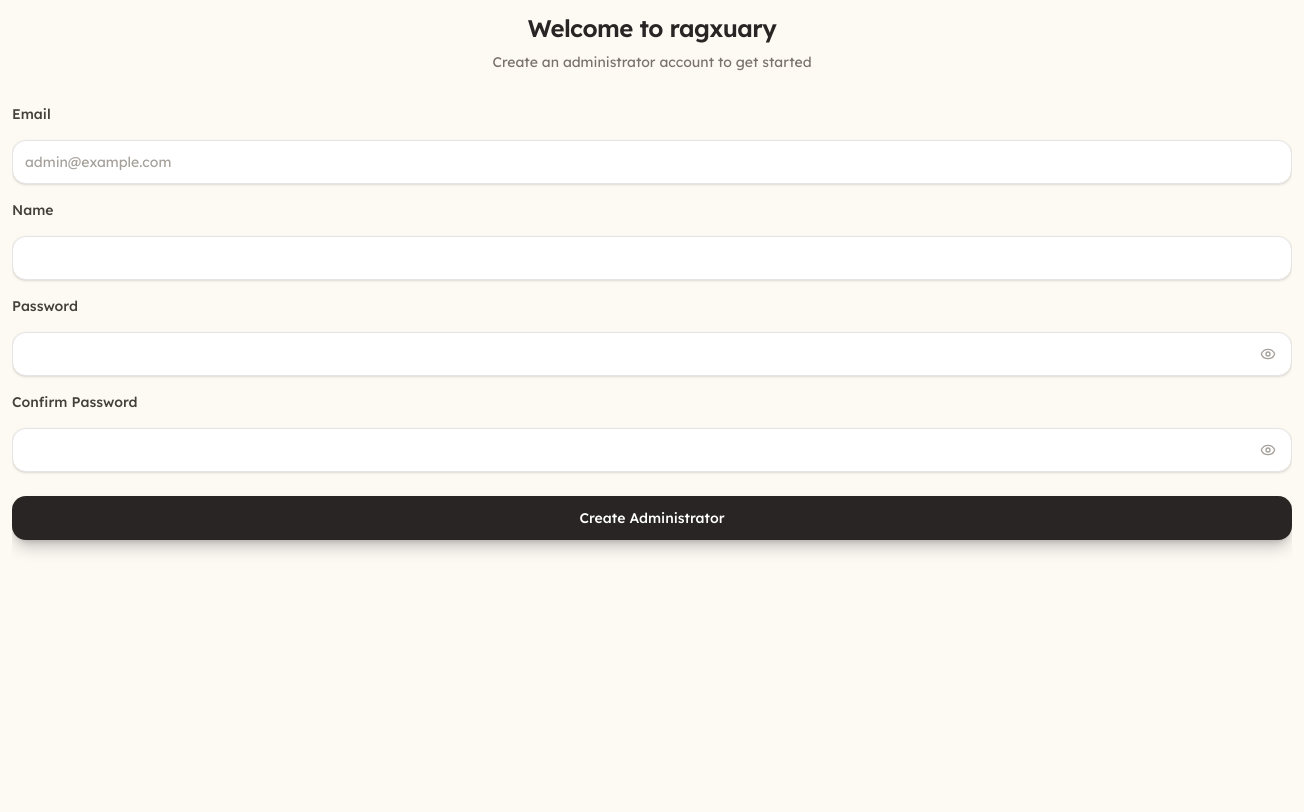
Scenario: SetupForm component › should show error when password is too short
Type "short1" into the 1st password field named "password" at (652, 354), box [12, 332, 1292, 376]
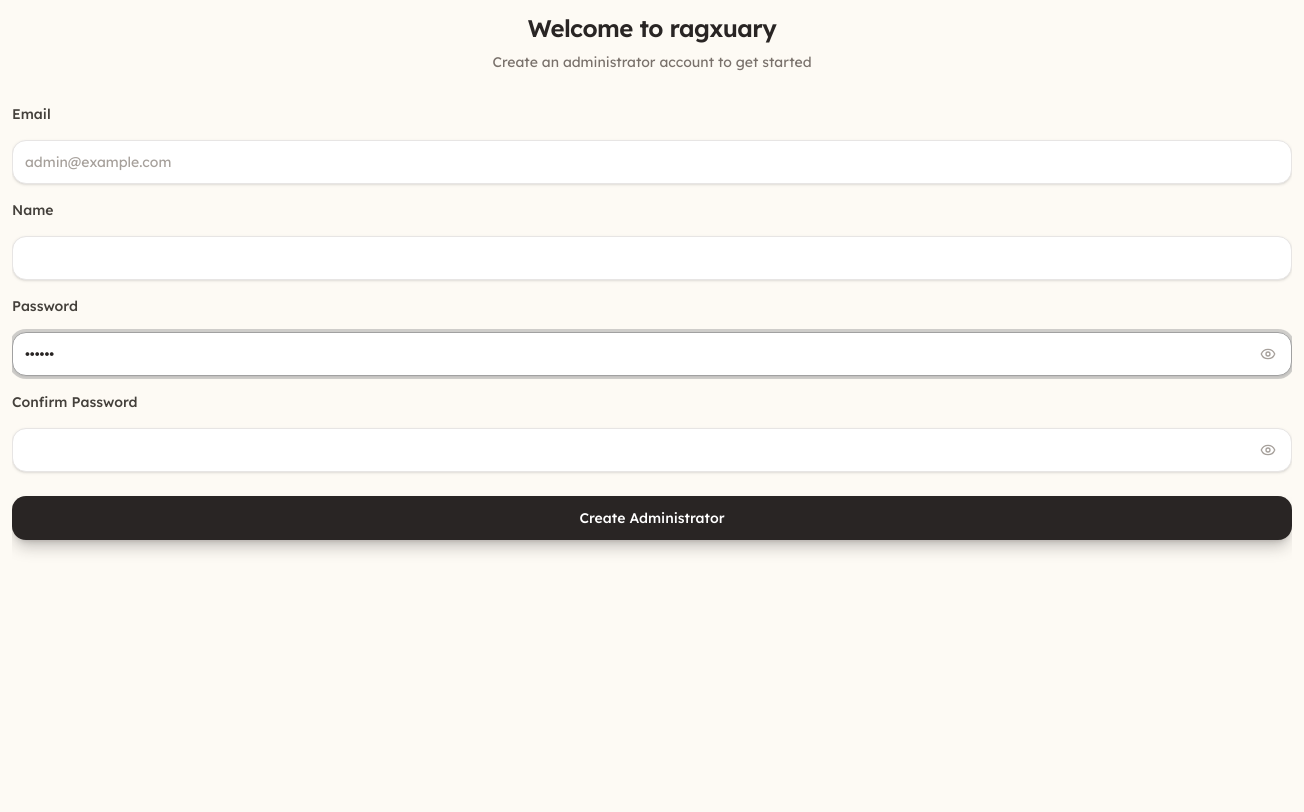
Click the button "Create Administrator" at (652, 518), box [12, 496, 1292, 540]
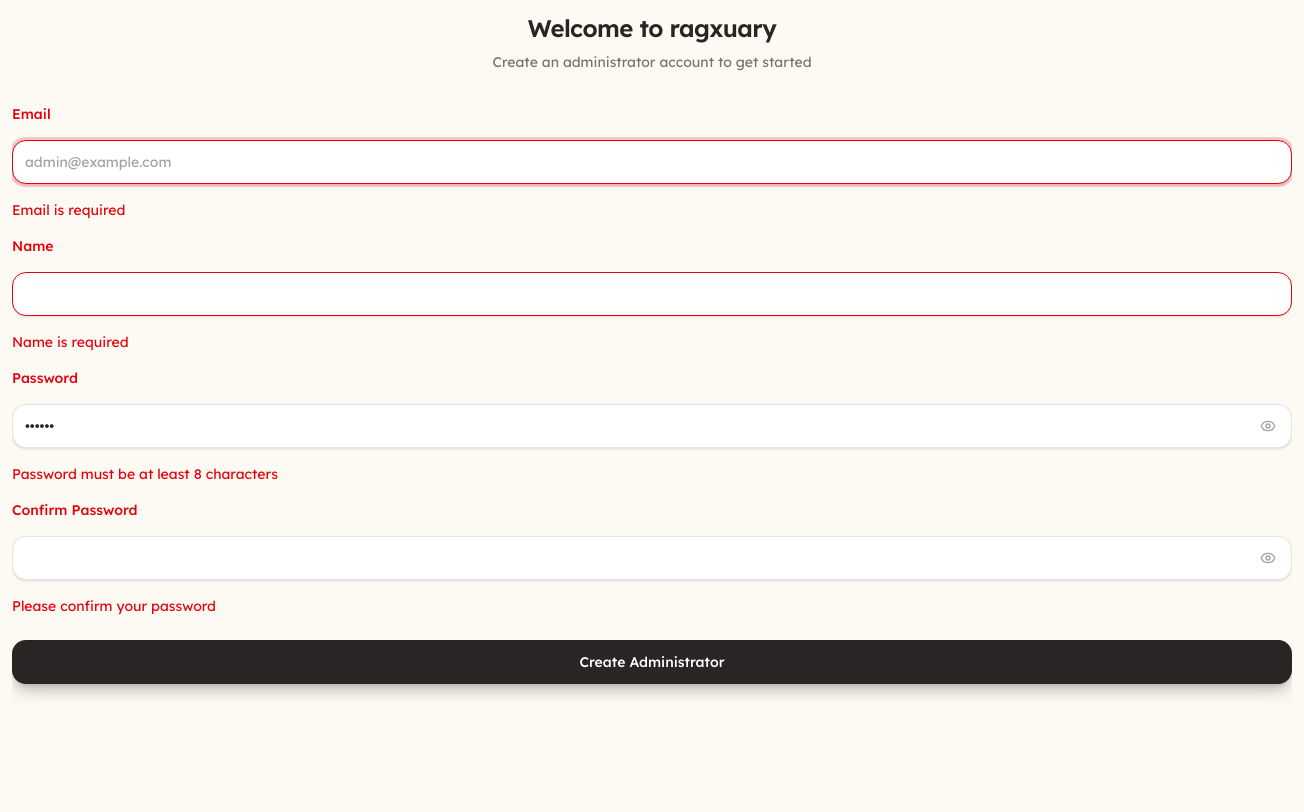
Expected: the text "Password must be at least 8 characters" is shown, [12, 465, 278, 483]
